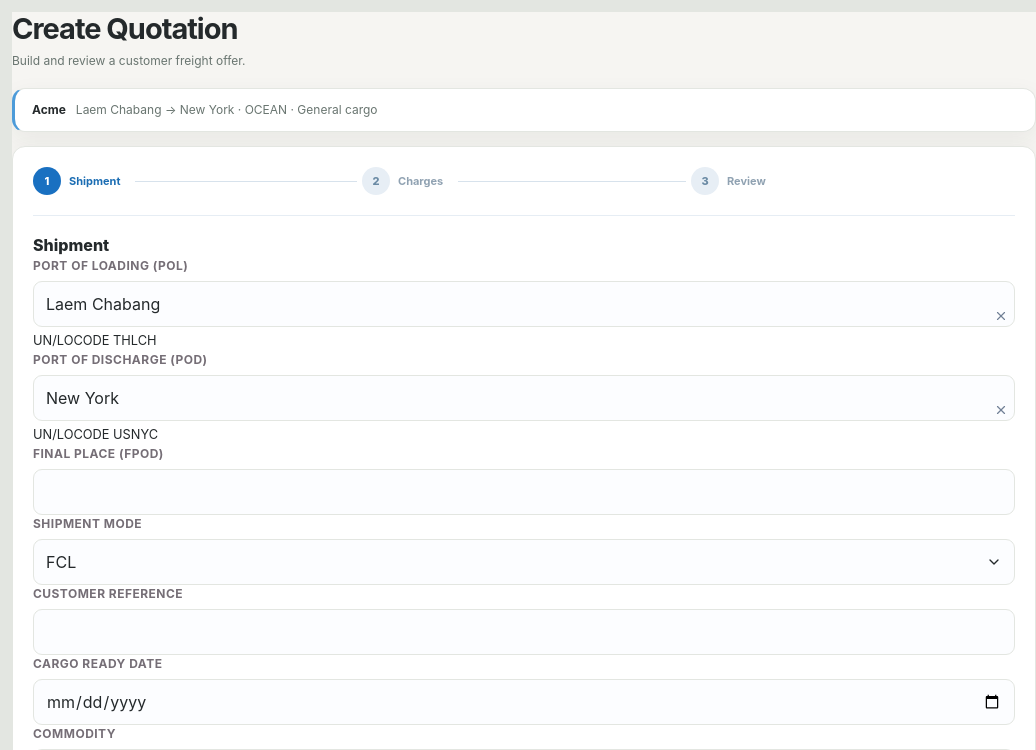
Test: quotation builder › shows a selected final place in the live route and removes it when cleared
Expected: the text "Laem Chabang → New York · OCEAN · General cargo" is shown, [76,101,378,119]
Type "Final" into the dropdown labelled "Final place (FPOD)". click: (524, 492)
box: [33,469,1015,515]
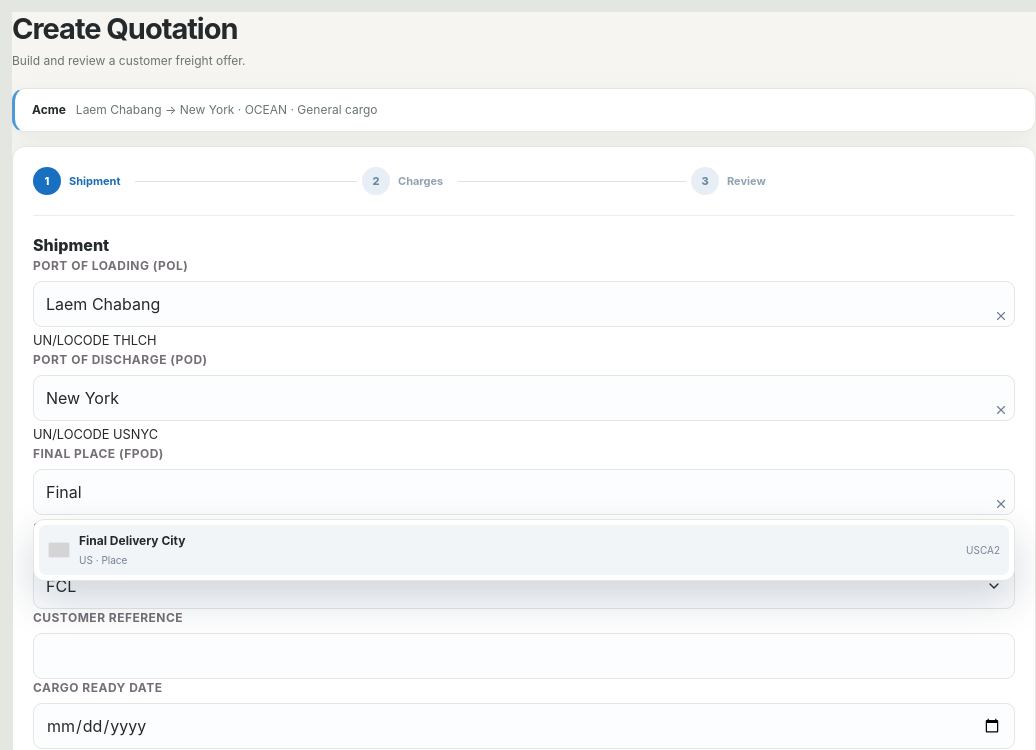
Click the option with aria-label "Final Delivery City · US · USCA2". click: (132, 541)
box: [39,525,1009,575]
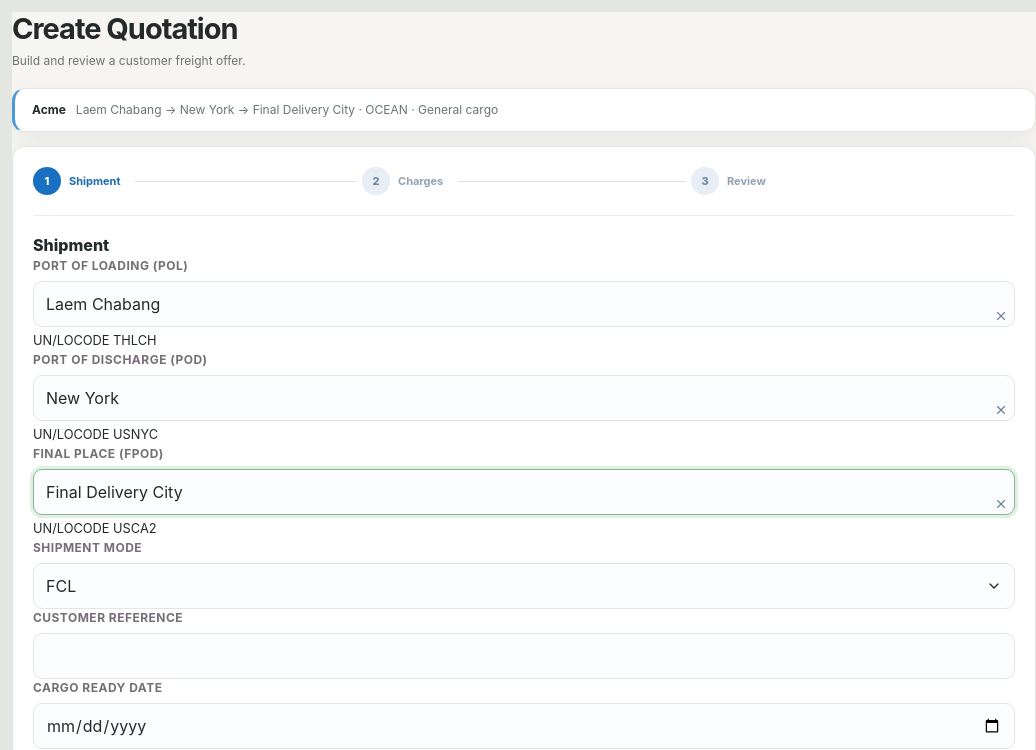
Clear the dropdown labelled "Final place (FPOD)". click: (524, 492)
box: [33,469,1015,515]
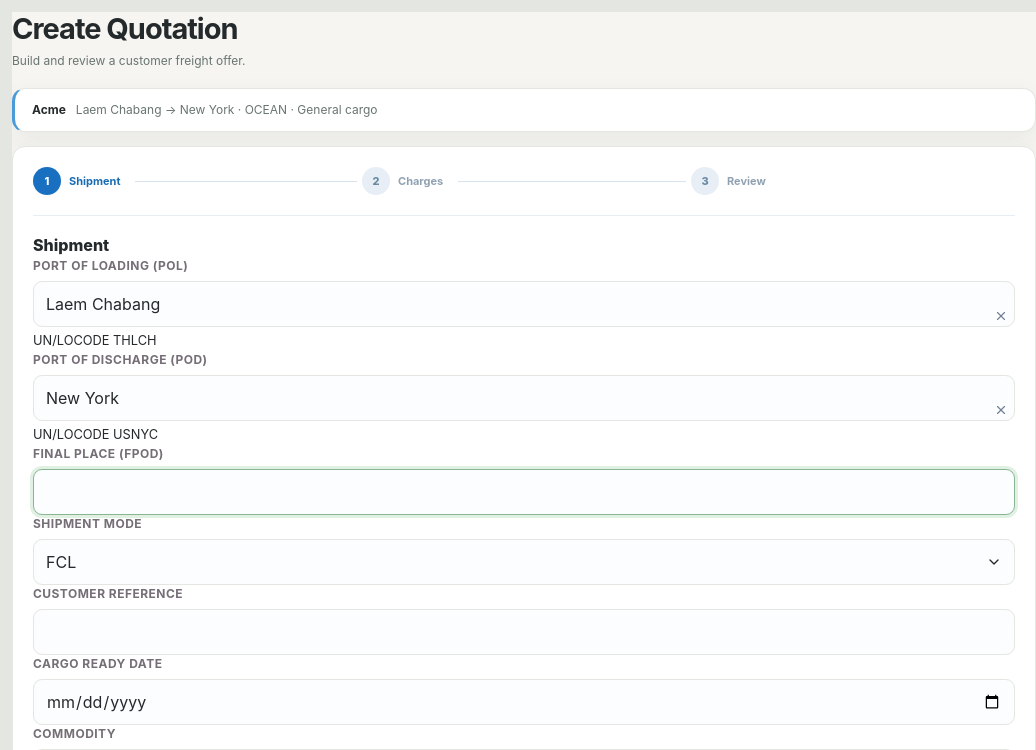
Now the text "Laem Chabang → New York → Final Delivery City" is gone
